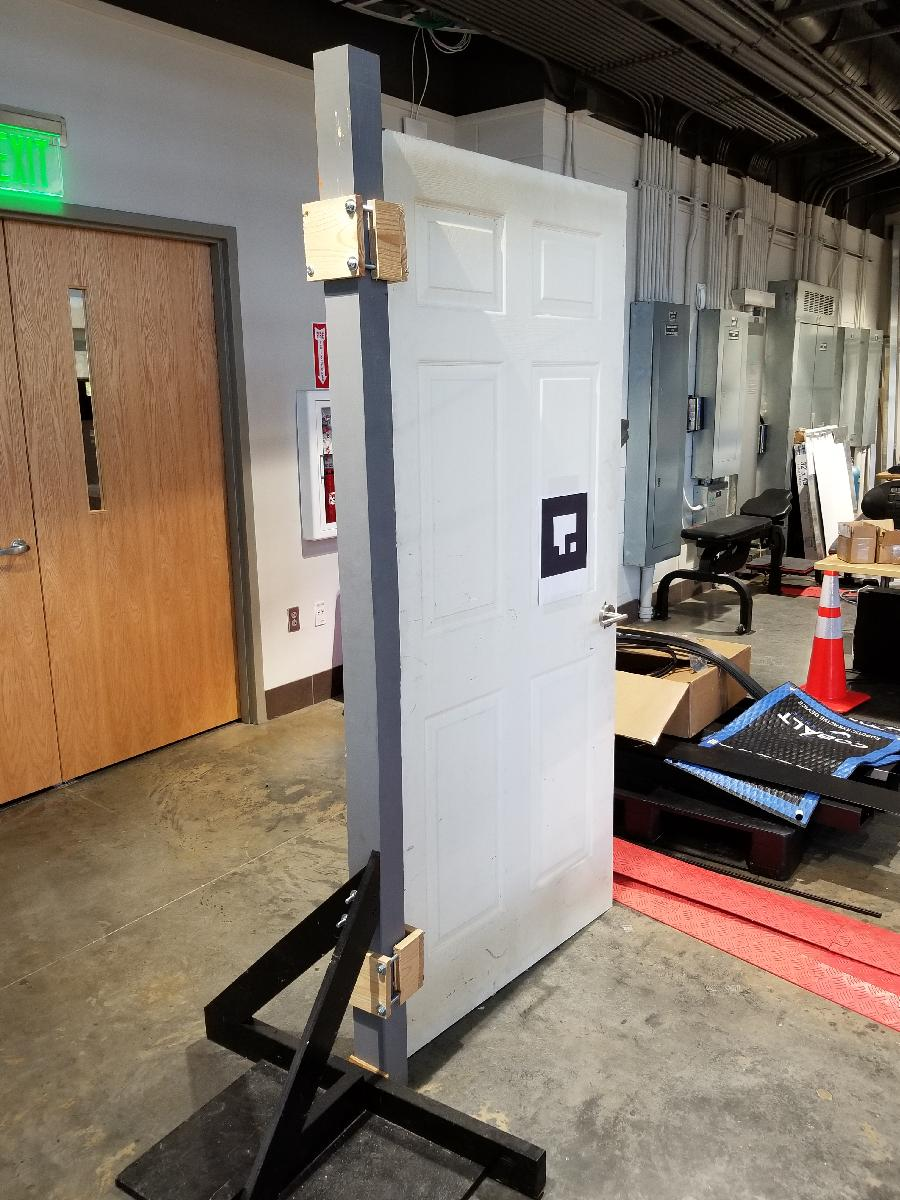door: (371, 119, 636, 1077)
doorHandle: (594, 601, 630, 638)
